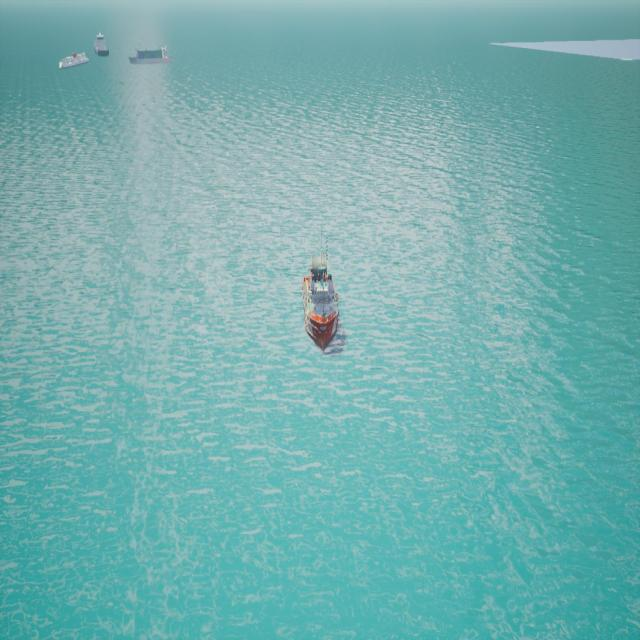tug boat: (304, 240, 342, 356)
